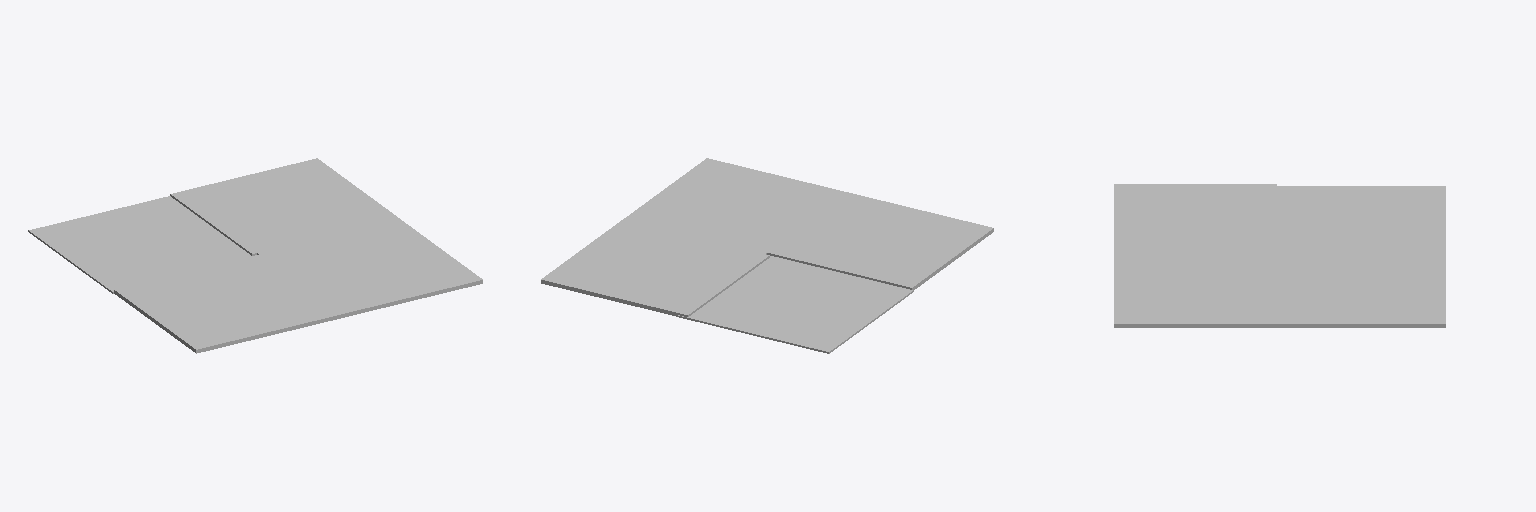
Rendered from ceiling4.obj.
3 views of the same model, side by side, from view 1: azimuth 30°, elevation 25°; view 2: azimuth 150°, elevation 25°; view 3: azimuth 270°, elevation 25° (orthographic).
Parts seen in each view (by area): view 1: Cube.1; view 2: Cube.1; view 3: Cube.1.
Part boxes in pixels (x1,y1,x2,y2): Cube.1: (28,158,482,353); Cube.1: (541,158,993,353); Cube.1: (1114,184,1445,327).
Bounding box in the file's own units: 1130 × 14.66 × 1129.